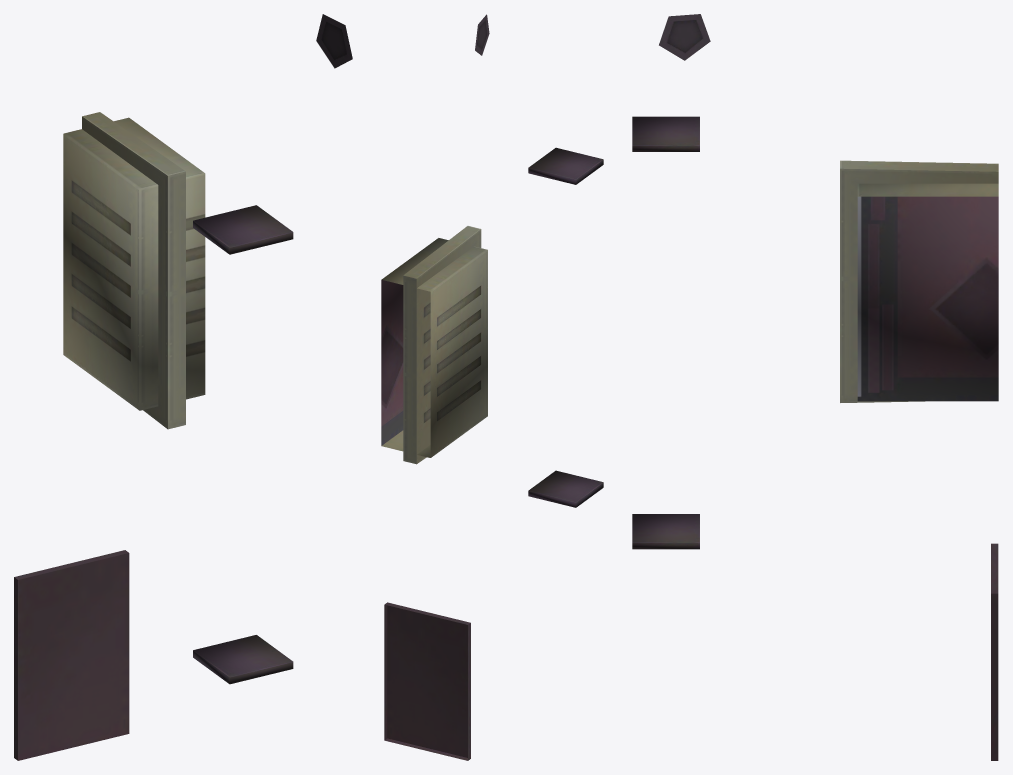
Rendered from sundries_14_b1de694a__ZombiesII_depot_diffuse_08_ba9eed24_c1f257.obj.
3 views of the same model, side by side, from view 1: azimuth 30°, elevation 25°; view 2: azimuth 150°, elevation 25°; view 3: azimuth 270°, elevation 25° (orthographic). The views are drawn at different scales.
Bounding box in the file's own units: 2.69 × 13.68 × 5.95.
1 material, 1 textured.
